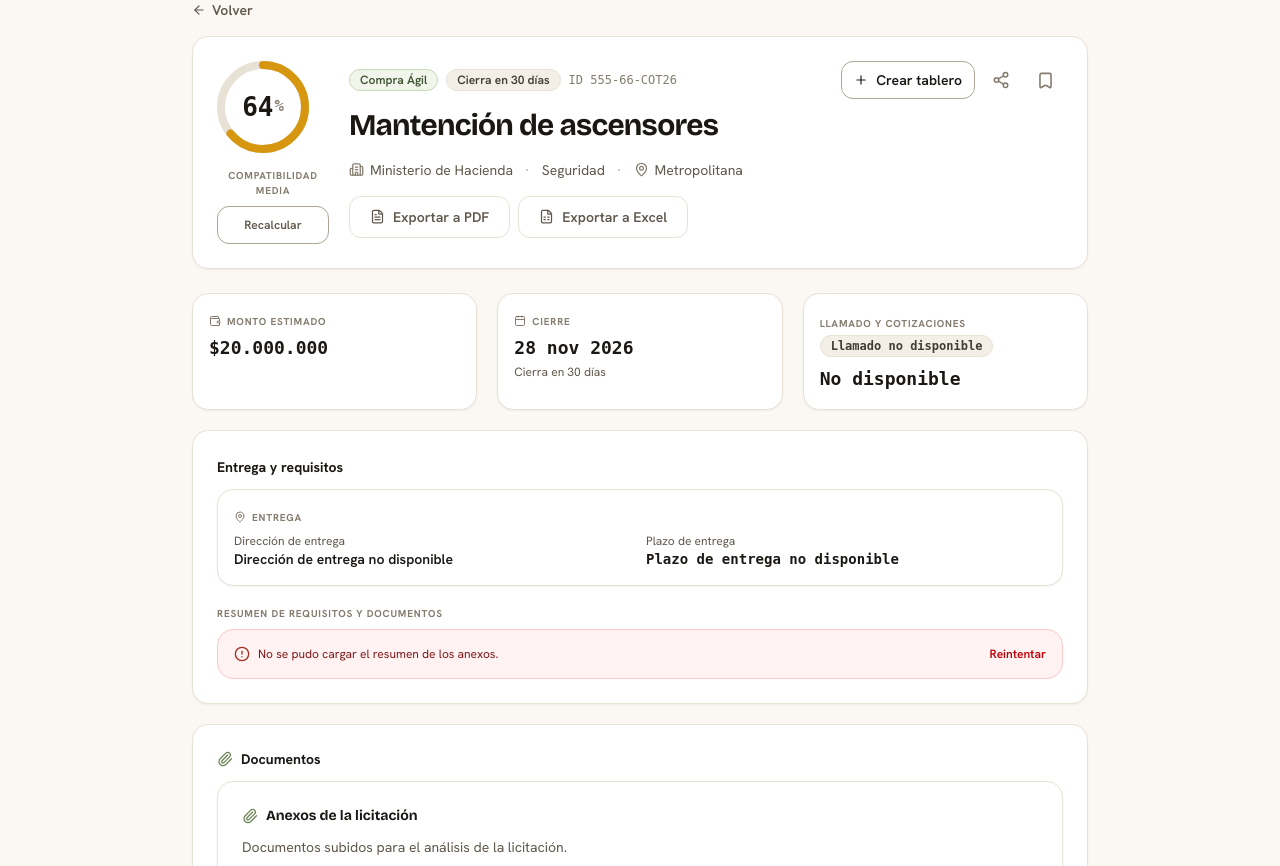
it: TenderDetailView: compatibilidad a pedido › marca el análisis como desactualizado si el puntaje recalculado cambió
Click the button "Recalcular" at (273, 225), box [217,206,329,244]
(page scrolled)
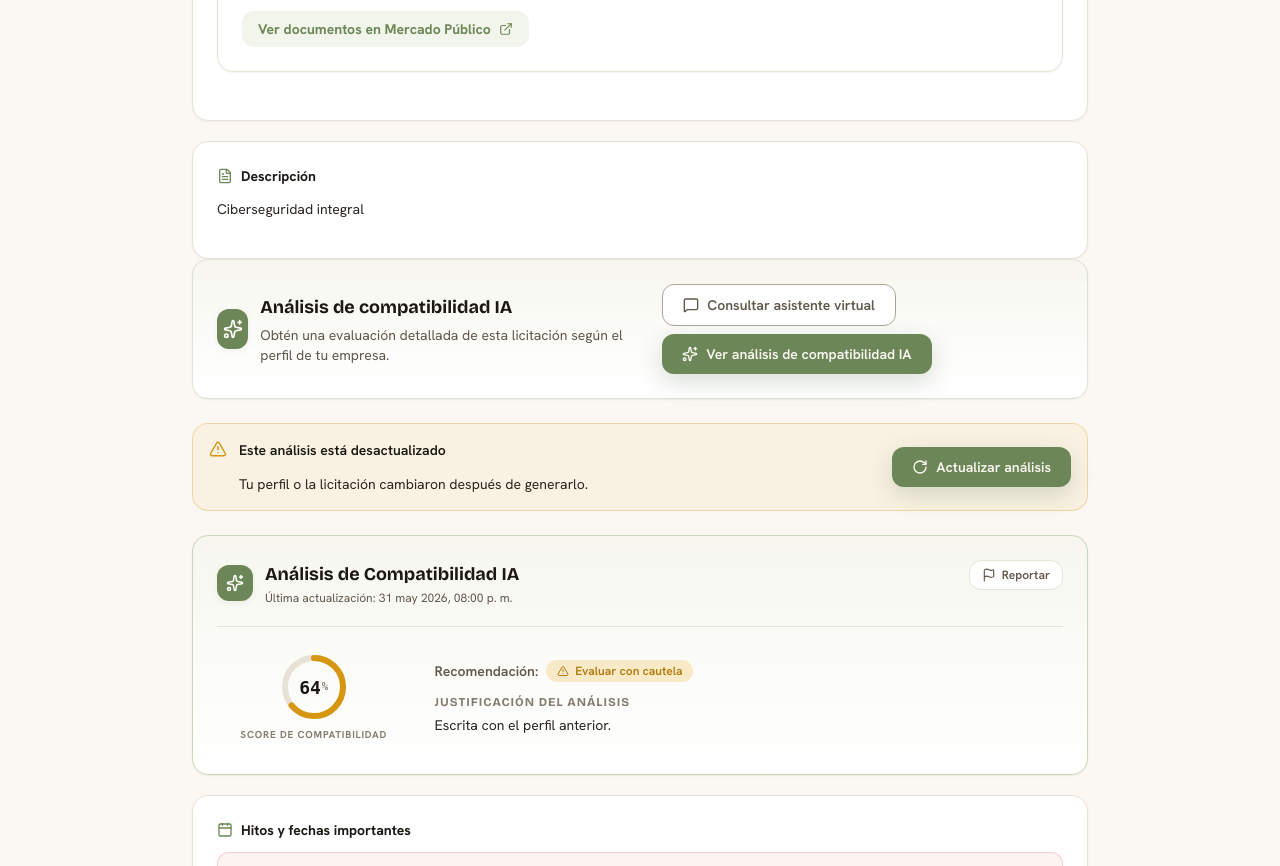
Now the text "Este análisis está desactualizado" is shown, box [239,441,446,459]
